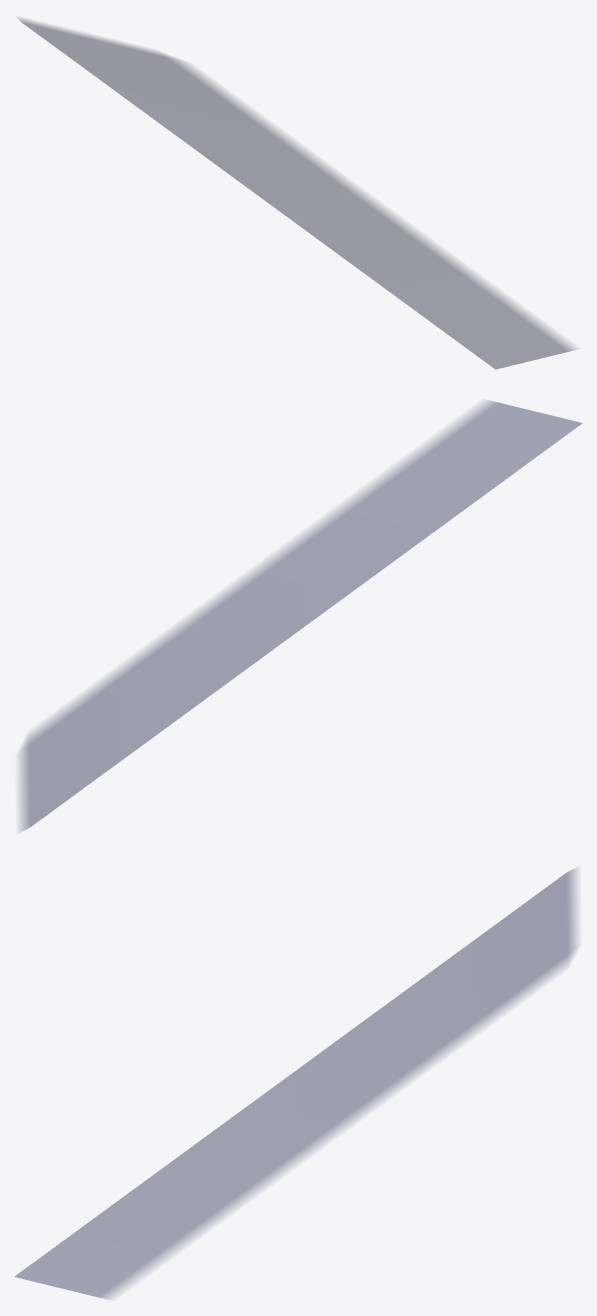
The picture shows the model from 3 angles, top to bottom: view 1: azimuth 30°, elevation 25°; view 2: azimuth 150°, elevation 25°; view 3: azimuth 330°, elevation 25°; orthographic projection. The views are drawn at different scales.
Parts seen in each view (by area): view 1: Joint_0_Object_0; view 2: Joint_0_Object_0; view 3: Joint_0_Object_0.
Boxes of the visible parts, bbox=[...] form: Joint_0_Object_0: bbox=[18, 18, 576, 369]; Joint_0_Object_0: bbox=[20, 400, 582, 831]; Joint_0_Object_0: bbox=[14, 868, 576, 1299].
Size of the model in its own units: 305 by 0 by 2914.
Materials: 1 (1 with a texture image).
